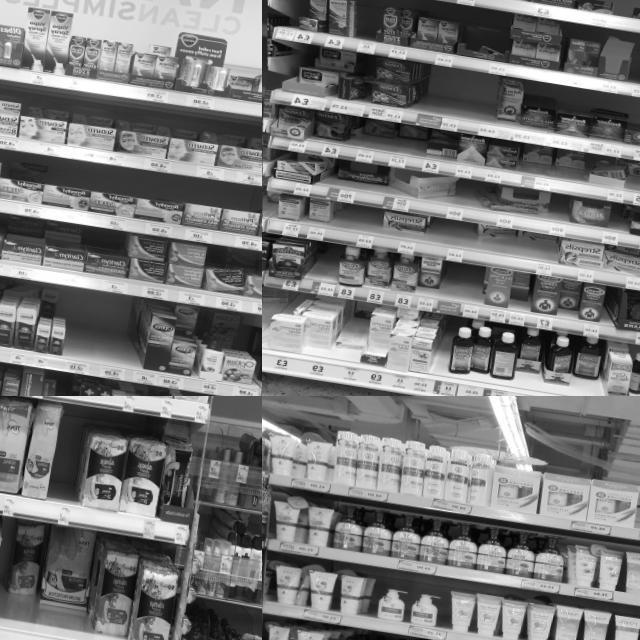empty: (46, 415, 86, 524), (92, 294, 134, 381), (60, 289, 102, 376), (422, 66, 471, 132), (438, 260, 484, 318), (464, 73, 498, 137), (429, 217, 474, 263), (341, 203, 382, 250), (308, 242, 339, 296), (353, 0, 381, 54), (0, 519, 12, 640), (545, 192, 571, 236), (275, 0, 302, 41), (451, 178, 474, 222), (606, 202, 626, 245)
